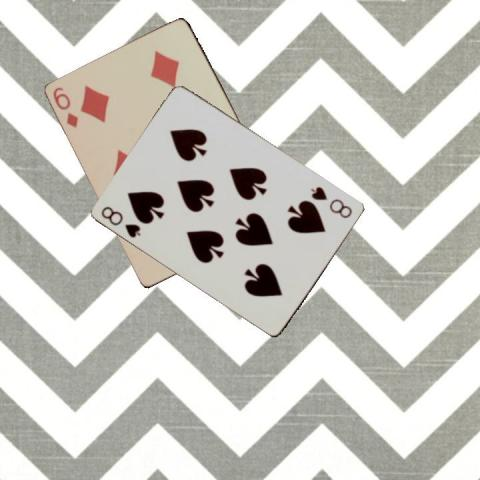6d: (50, 84, 80, 129)
8s: (308, 183, 355, 220), (98, 203, 143, 239)
